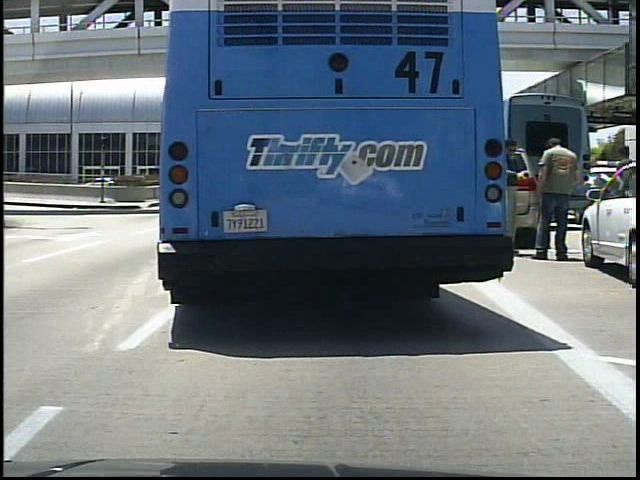person: (534, 133, 582, 269), (503, 137, 537, 264), (610, 144, 635, 245)
